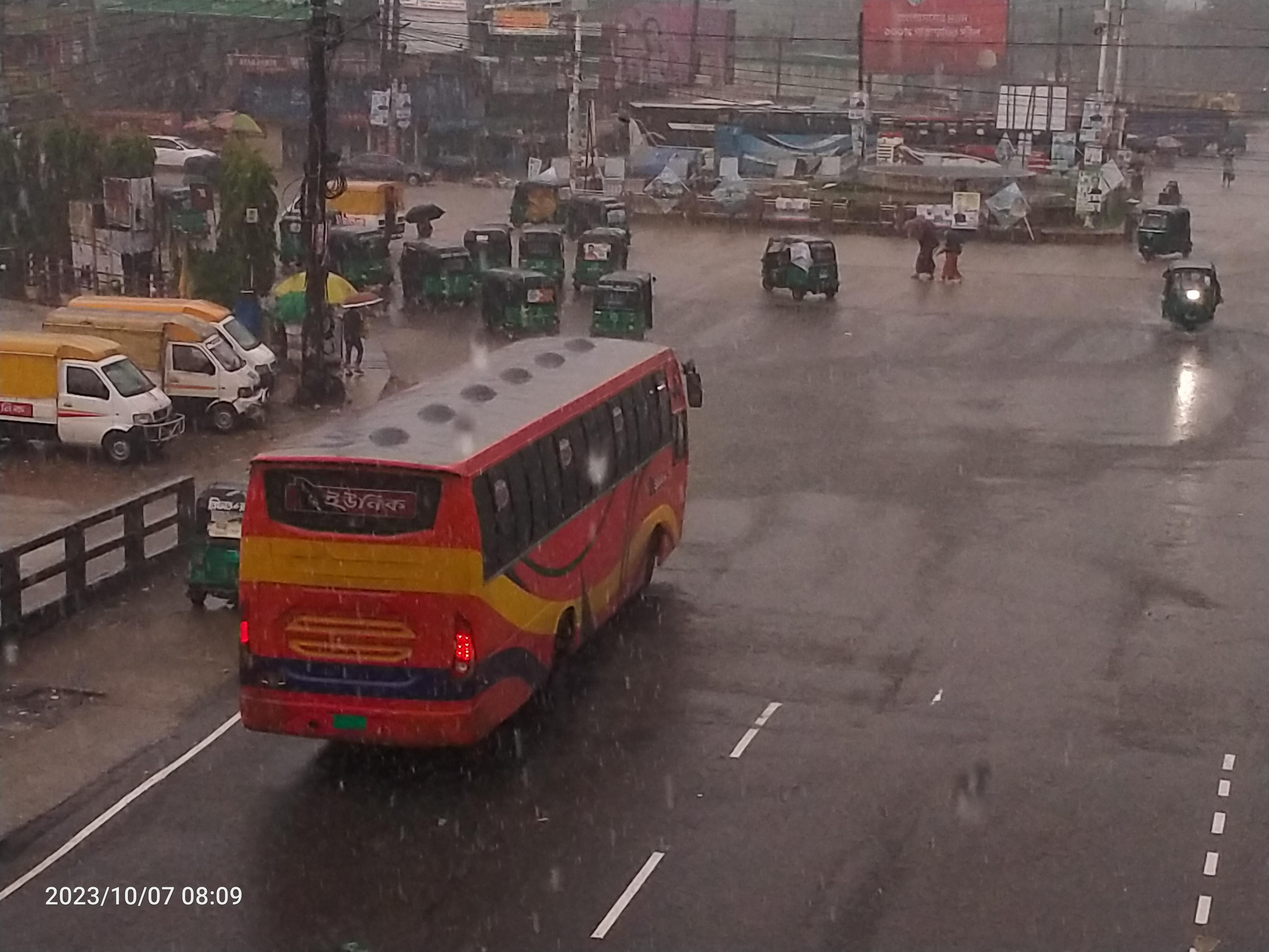Bus: (233, 325, 713, 760), (607, 80, 878, 190), (879, 87, 1107, 192)
Car: (311, 133, 440, 201)
Truck: (44, 275, 269, 442), (0, 317, 180, 471), (258, 162, 412, 239)
